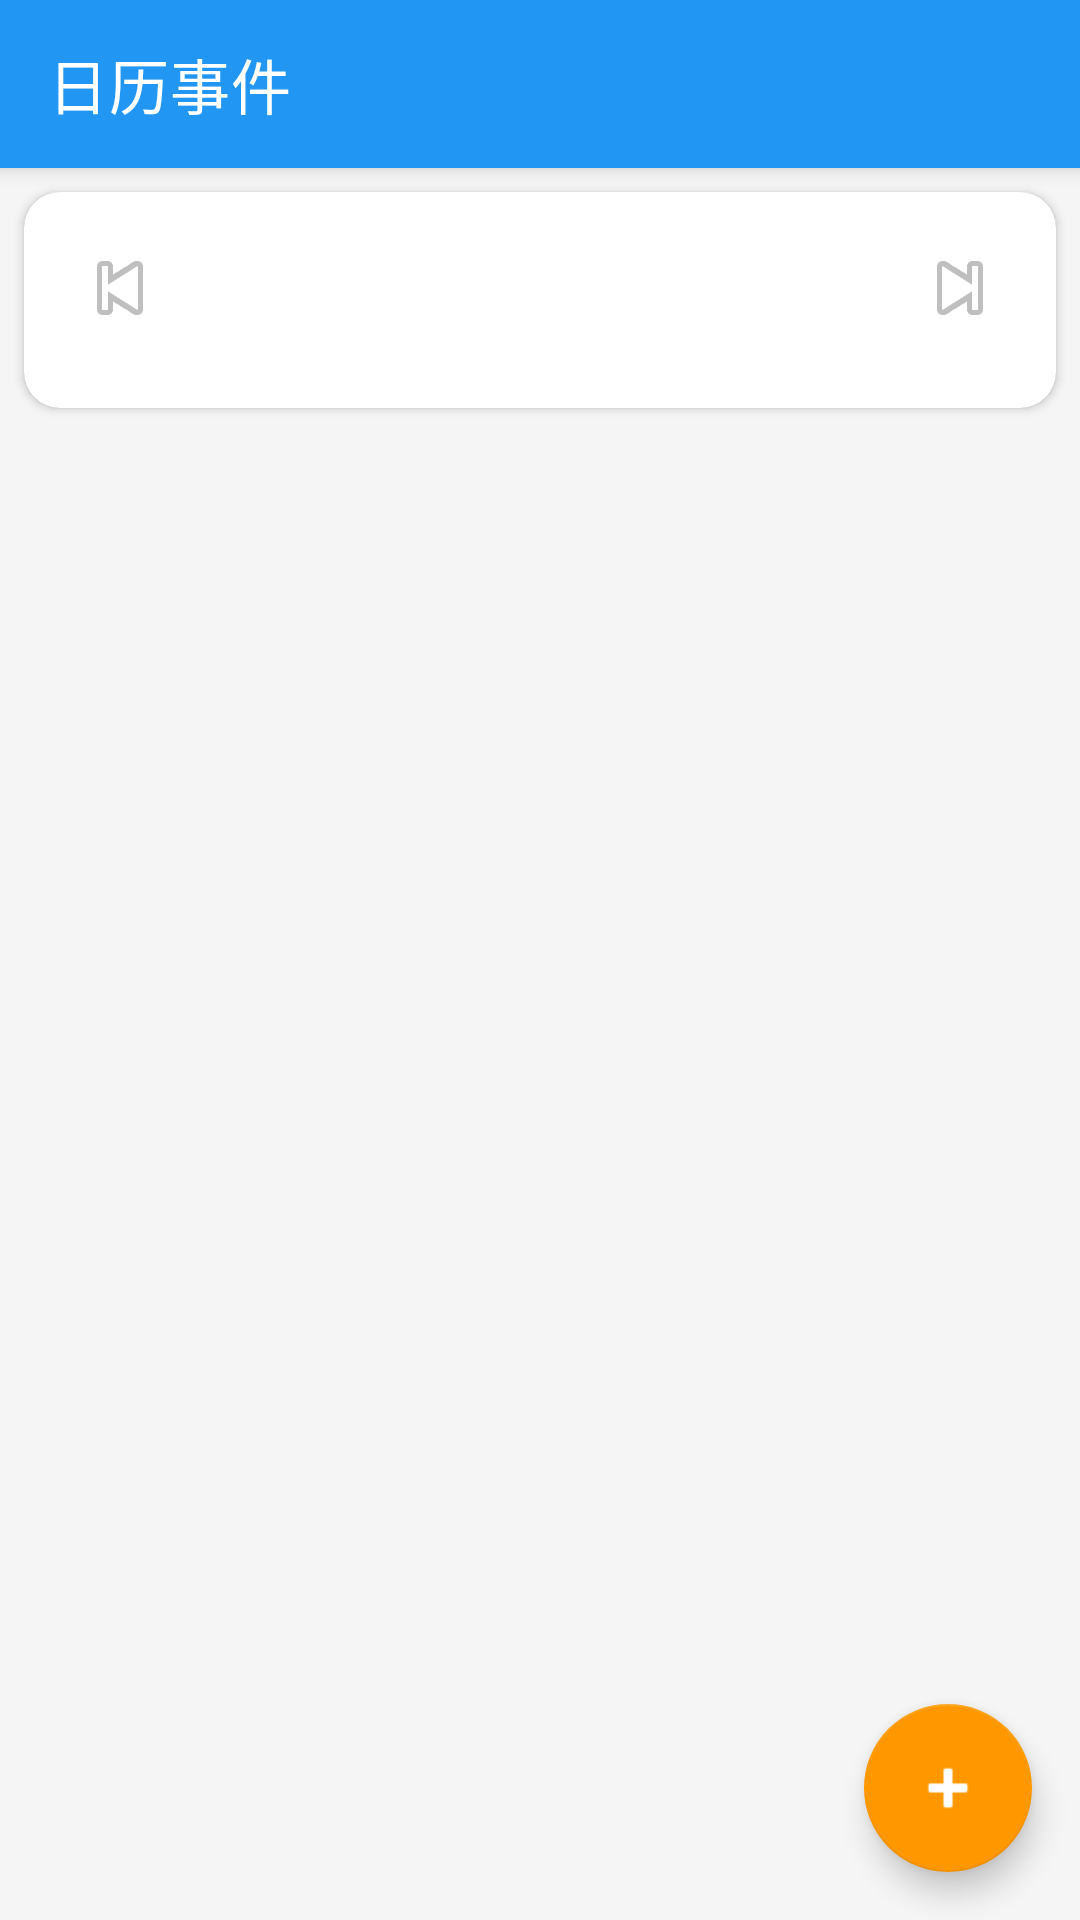

Named icons in this screenshot (1080px×1920px) and their centers, (x,y):
add: (948,1788)
上个月: (120,288)
下个月: (960,288)
